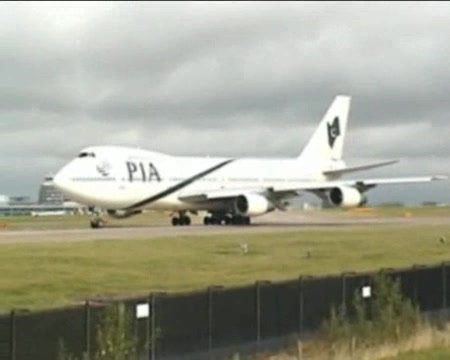aeroplane: (52, 96, 447, 230)
